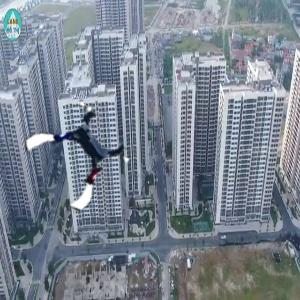drone: (33, 110, 128, 205)
